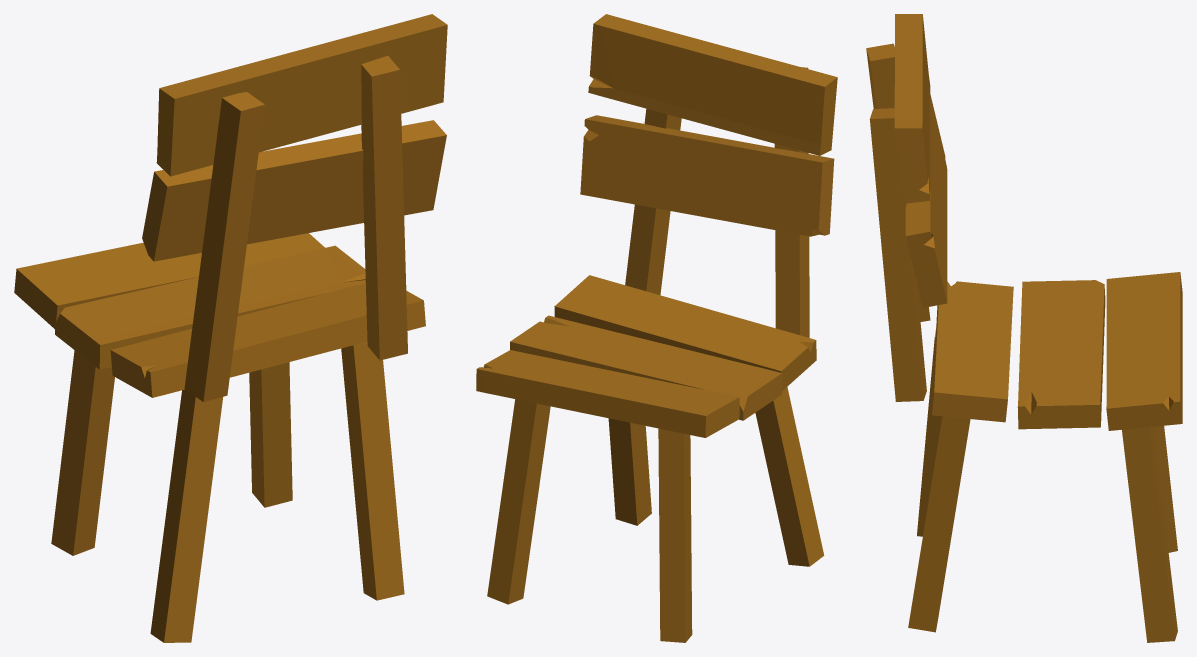
The model's file is cadeira_1.fbx.
The picture shows the model from 3 angles, left to right: view 1: azimuth 30°, elevation 25°; view 2: azimuth 150°, elevation 25°; view 3: azimuth 270°, elevation 25°; orthographic projection. The views are drawn at different scales.
Visible parts, largest first — view 1: cadeira_1; view 2: cadeira_1; view 3: cadeira_1.
Part boxes in pixels (x1,y1,x2,y2): cadeira_1: [14, 14, 447, 642]; cadeira_1: [476, 14, 837, 642]; cadeira_1: [866, 14, 1182, 642].
Size of the model in its own units: 59.49 by 115 by 63.03.
